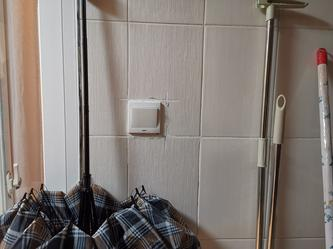switch: (129, 104, 161, 131)
